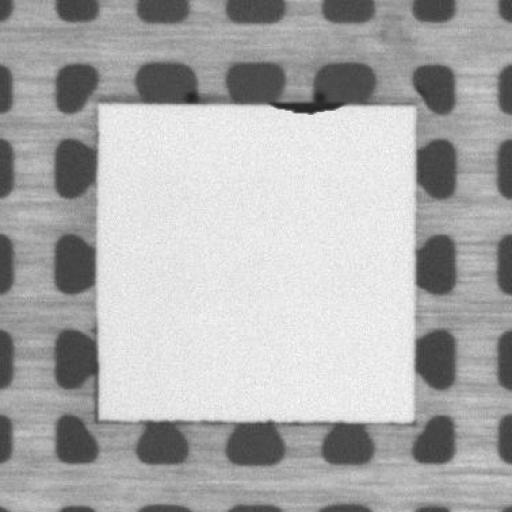DIE_BROKEN: (272, 98, 348, 114)
